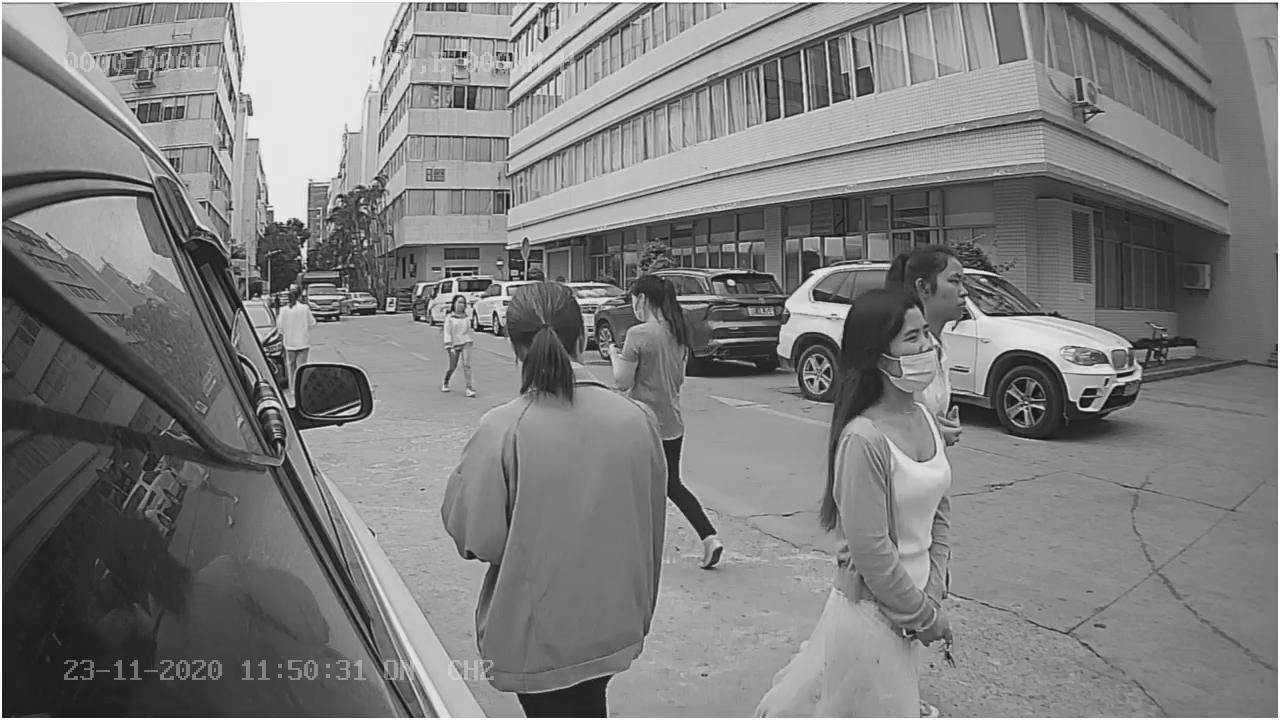person: (822, 291, 958, 645)
